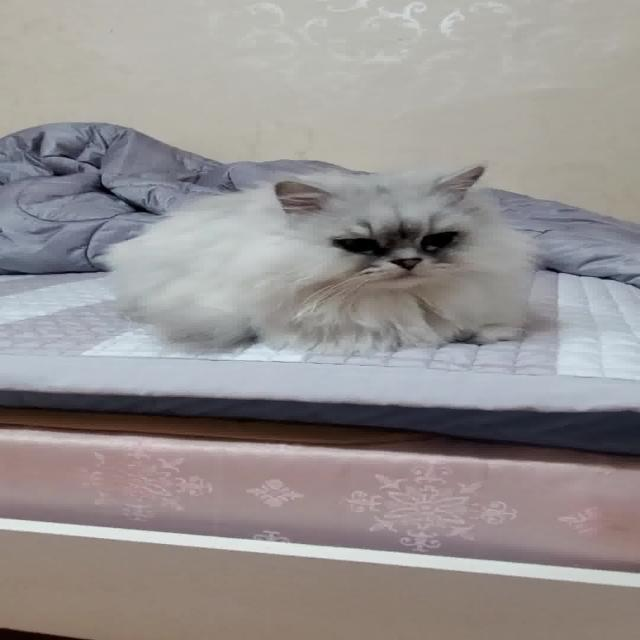cat: (89, 154, 579, 364)
